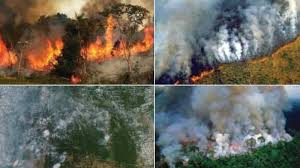smoke: (166, 88, 275, 152), (159, 4, 250, 57), (2, 99, 16, 162)
